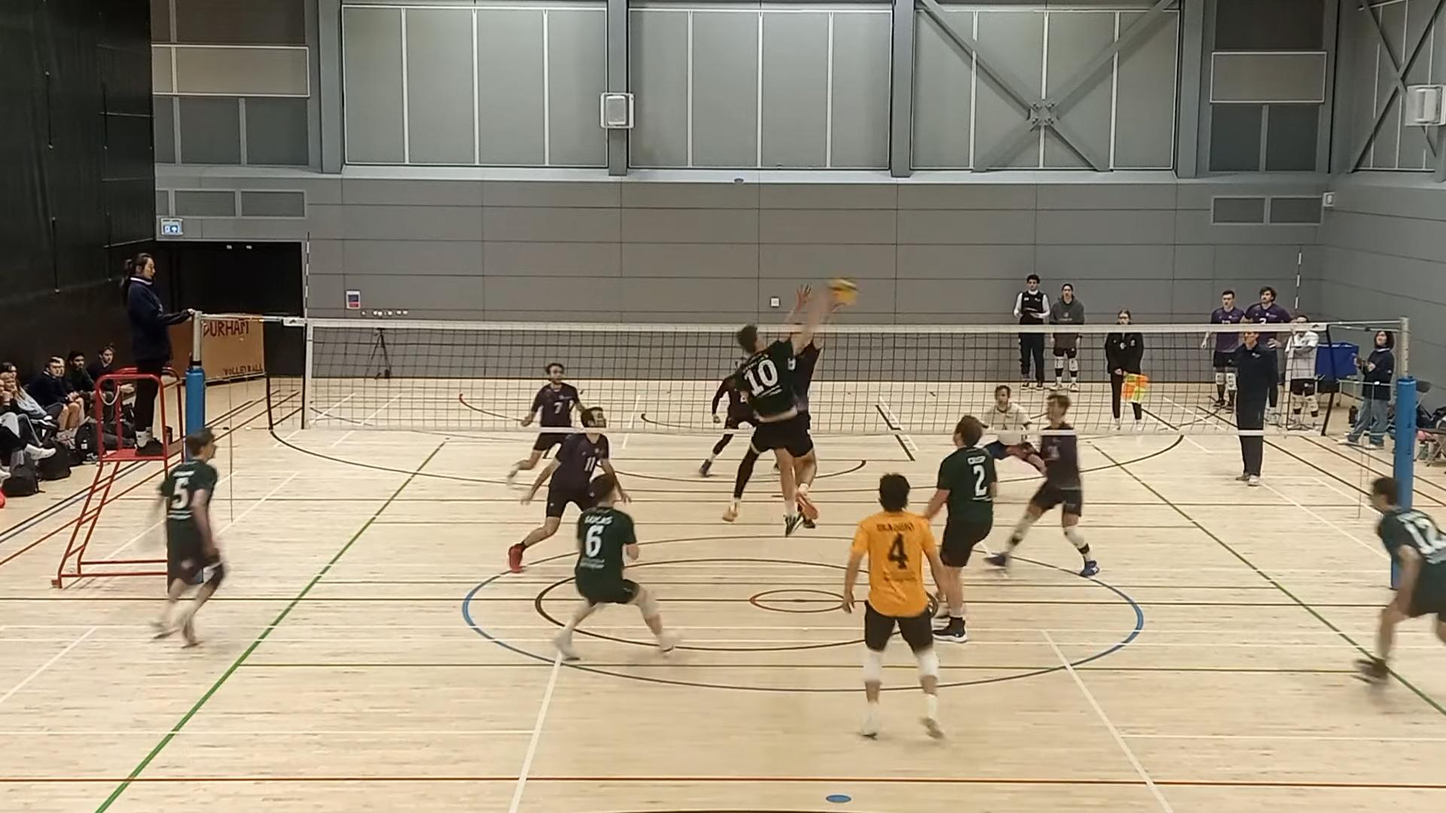attacco: (716, 292, 839, 533)
